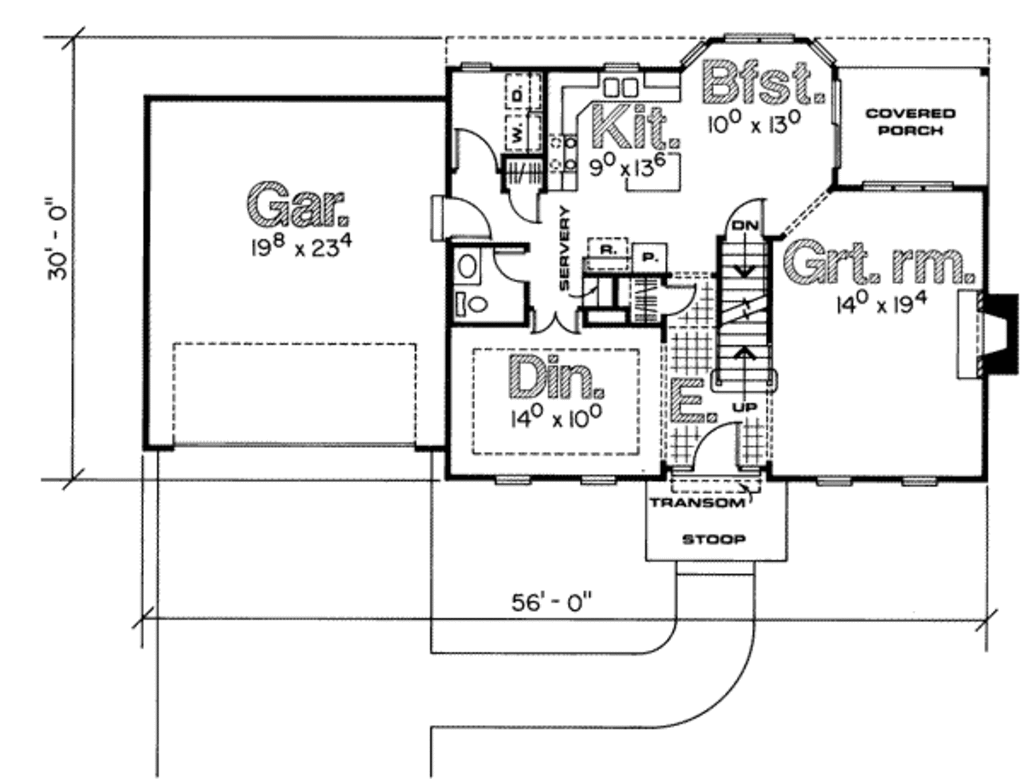door: (421, 189, 494, 246), (687, 422, 745, 476), (452, 127, 499, 177), (528, 303, 585, 340), (502, 185, 545, 230), (492, 248, 533, 291), (659, 282, 699, 322)
large_sink: (450, 288, 491, 327)
small_sink: (447, 246, 486, 292)
stairs: (709, 230, 784, 412)
twin_sink: (601, 74, 651, 105)
window: (665, 29, 843, 71), (859, 174, 953, 199), (575, 470, 631, 493), (492, 472, 537, 491), (808, 475, 853, 492), (899, 471, 939, 488)
